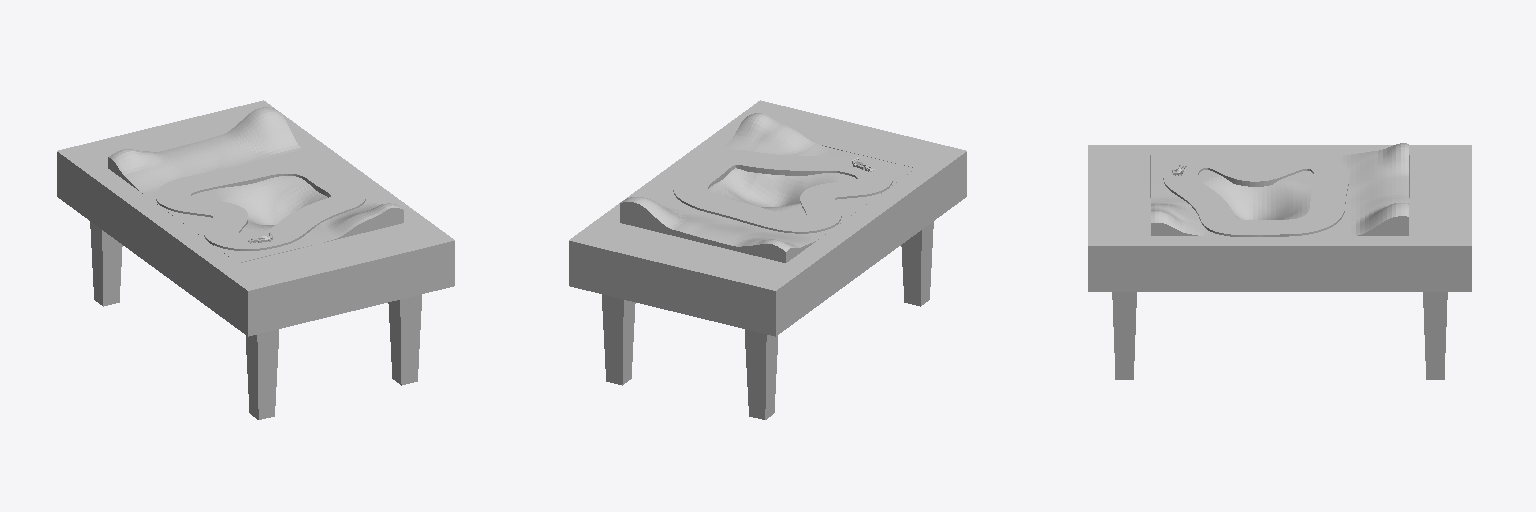
Rendered from NewestTisch59.obj.
The picture shows the model from 3 angles: view 1: azimuth 30°, elevation 25°; view 2: azimuth 150°, elevation 25°; view 3: azimuth 270°, elevation 25°; orthographic projection.
Parts seen in each view (by area): view 1: Tischplatte_wood_table_001, Landschaft_aerial_grass_rock, off, Bein1_wood_table_001, Bein4_wood_table_001.003, Bein3_wood_table_001.002; view 2: Tischplatte_wood_table_001, Landschaft_aerial_grass_rock, off, Bein2_wood_table_001.001, Bein3_wood_table_001.002, Bein4_wood_table_001.003; view 3: Tischplatte_wood_table_001, Landschaft_aerial_grass_rock, off, Bein1_wood_table_001, Bein2_wood_table_001.001.
Boxes of the visible parts, box(x1,y1,x2,y2) form: Tischplatte_wood_table_001: box(57, 100, 454, 336); Landschaft_aerial_grass_rock: box(108, 107, 403, 262); off: box(156, 159, 365, 250); Bein1_wood_table_001: box(388, 294, 421, 385); Bein4_wood_table_001.003: box(246, 329, 278, 419); Bein3_wood_table_001.002: box(90, 221, 122, 306); Tischplatte_wood_table_001: box(569, 100, 966, 336); Landschaft_aerial_grass_rock: box(620, 113, 915, 262); off: box(673, 150, 892, 233); Bein2_wood_table_001.001: box(602, 294, 635, 385); Bein3_wood_table_001.002: box(745, 329, 777, 419); Bein4_wood_table_001.003: box(901, 221, 933, 306); Tischplatte_wood_table_001: box(1088, 145, 1471, 291); Landschaft_aerial_grass_rock: box(1151, 143, 1408, 235); off: box(1163, 153, 1348, 236); Bein1_wood_table_001: box(1112, 292, 1136, 379); Bein2_wood_table_001.001: box(1423, 292, 1447, 379).
Size of the model in its own units: 5 by 3.91 by 8.